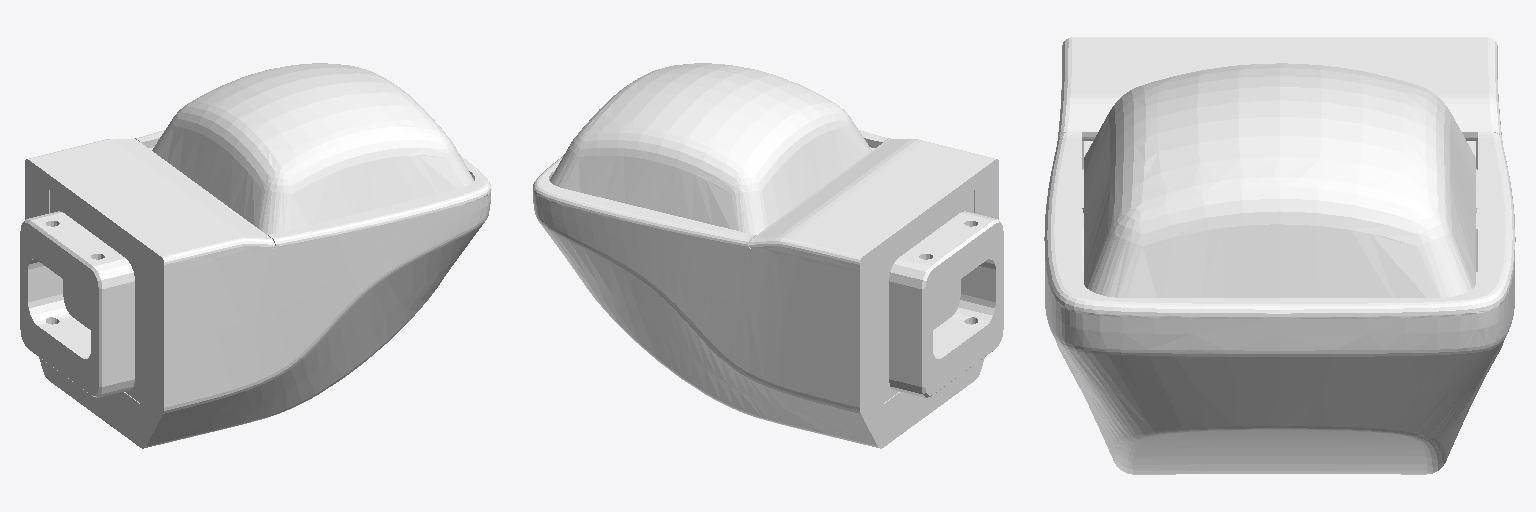
URDF robot description (Tac3D):
<?xml version="1.0" ?>
<robot name="Tac3D">
  <link concave="yes" name="baseLink">
    <inertial>
      <origin rpy="0 0 0" xyz="0 0 0"/>
      <mass value="0.1"/>
      <inertia ixx="1" ixy="0" ixz="0" iyy="1" iyz="0" izz="1"/>
    </inertial>
    <visual>
      <origin rpy="0 0 0" xyz="0 0 0"/>
      <geometry>
        <mesh filename="Tac3D_binary.stl" scale="0.001 0.001 0.001"/>
      </geometry>
      <material name="white">
        <color rgba="1 1 1 1"/>
      </material>
    </visual>
    <collision concave="yes">
      <origin rpy="0 0 0" xyz="0 0 0"/>
      <geometry>
        <mesh filename="Tac3D_binary.stl" scale="0.001 0.001 0.001"/>
      </geometry>
    </collision>
  </link>
</robot>

--- Facts derived from the render (not from the file) ---
Views: 3 orthographic renders of the robot side by side, from view 1: azimuth 30°, elevation 25°; view 2: azimuth 150°, elevation 25°; view 3: azimuth 270°, elevation 25°.
Model Tac3D with 1 links and 0 joints (none), rooted at baseLink, posed every joint at zero.
Visible links, largest first — view 1: baseLink; view 2: baseLink; view 3: baseLink.
Boxes of the visible links, x1,y1,x2,y2 form: baseLink: [20, 63, 491, 448]; baseLink: [533, 63, 1003, 448]; baseLink: [1044, 37, 1515, 474].
Bounding box of the posed robot: 0.0482 × 0.0336 × 0.0335 m (x, y, z).
Meshes: 1 distinct files referenced, 1 mesh visuals loaded (1 binary STL).
